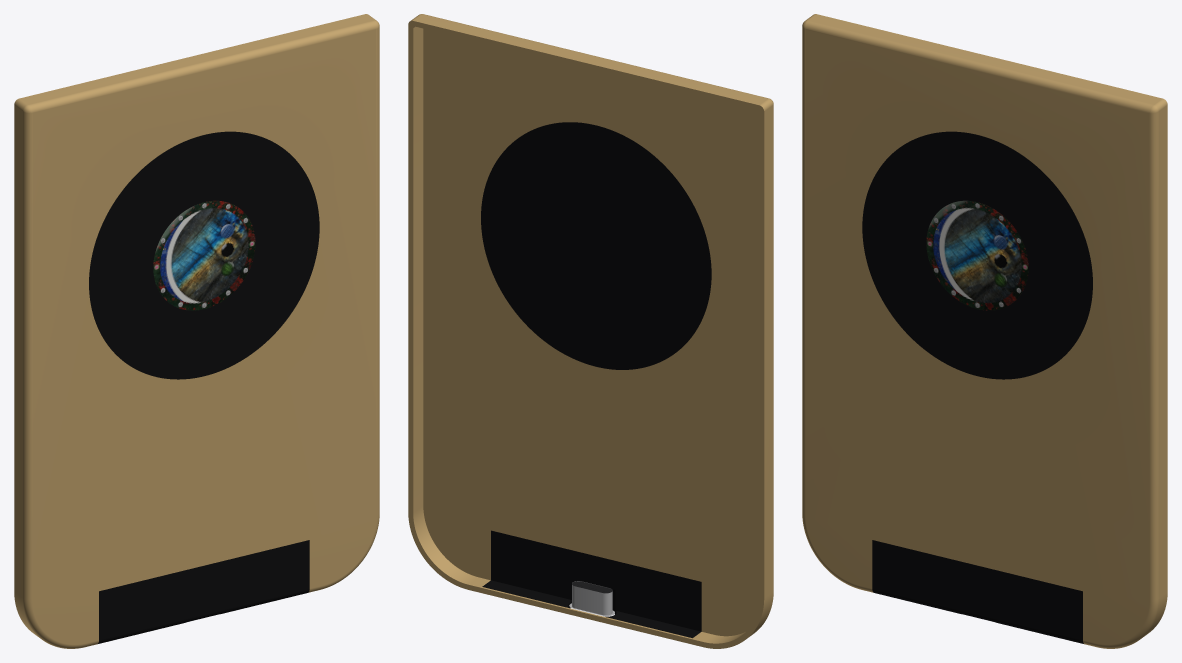
The model's file is gold-moldavite-shield.glb.
3 views of the same model, side by side, from view 1: azimuth 30°, elevation 25°; view 2: azimuth 150°, elevation 25°; view 3: azimuth 330°, elevation 25° (orthographic).
Visible parts, largest first — view 1: shield housing, shield window_inserts, inlay; view 2: shield housing, shield window_inserts, shield USB-C; view 3: shield housing, shield window_inserts, inlay.
Part boxes in pixels (x1,y1,x2,y2): shield housing: [14, 14, 379, 648]; shield window_inserts: [89, 131, 319, 643]; inlay: [153, 200, 255, 310]; shield housing: [408, 14, 773, 648]; shield window_inserts: [481, 122, 711, 638]; shield USB-C: [569, 581, 614, 616]; shield housing: [802, 14, 1167, 648]; shield window_inserts: [862, 131, 1092, 643]; inlay: [926, 200, 1028, 310].
Size of the model in its own units: 0.071 by 0.1059 by 0.00422.
Materials: 5 (1 with a texture image).
